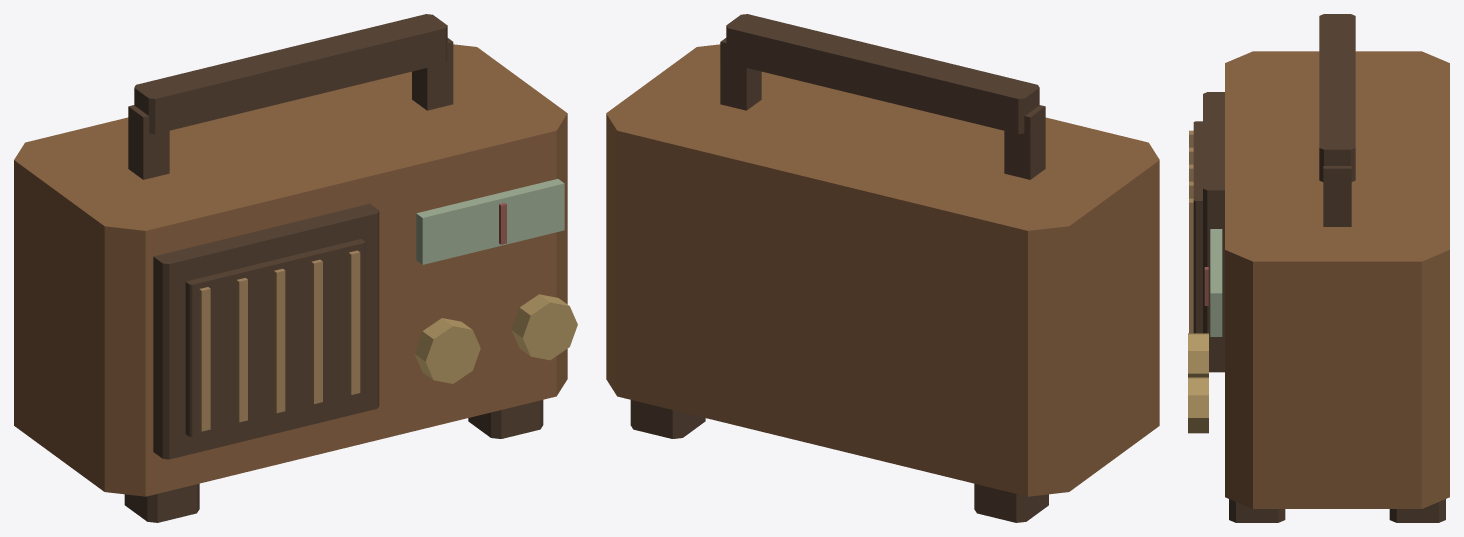
Rendered from radio.glb.
The picture shows the model from 3 angles, left to right: view 1: azimuth 30°, elevation 25°; view 2: azimuth 150°, elevation 25°; view 3: azimuth 270°, elevation 25°; orthographic projection. The views are drawn at different scales.
Parts seen in each view (by area): view 1: geometry; view 2: geometry; view 3: geometry.
Part boxes in pixels (x1,y1,x2,y2): geometry: (14,14,577,522); geometry: (606,14,1159,522); geometry: (1188,14,1449,522).
Size of the model in its own units: 0.62 by 0.4825 by 0.326.
